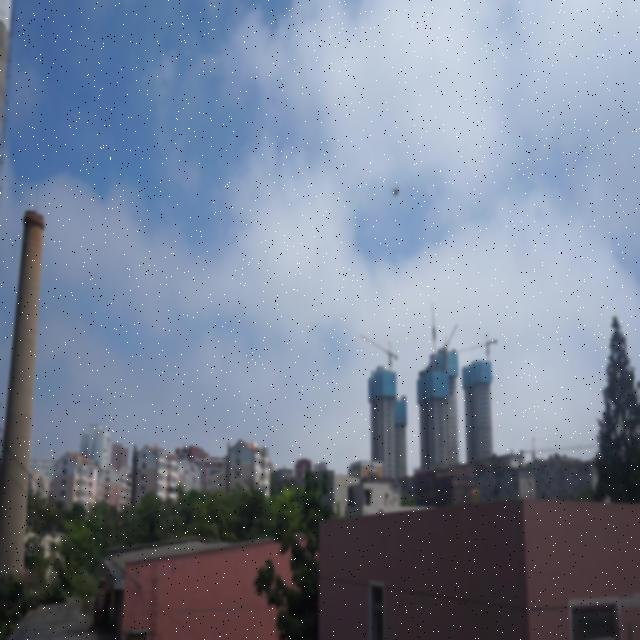UAV: (391, 184, 400, 198)
